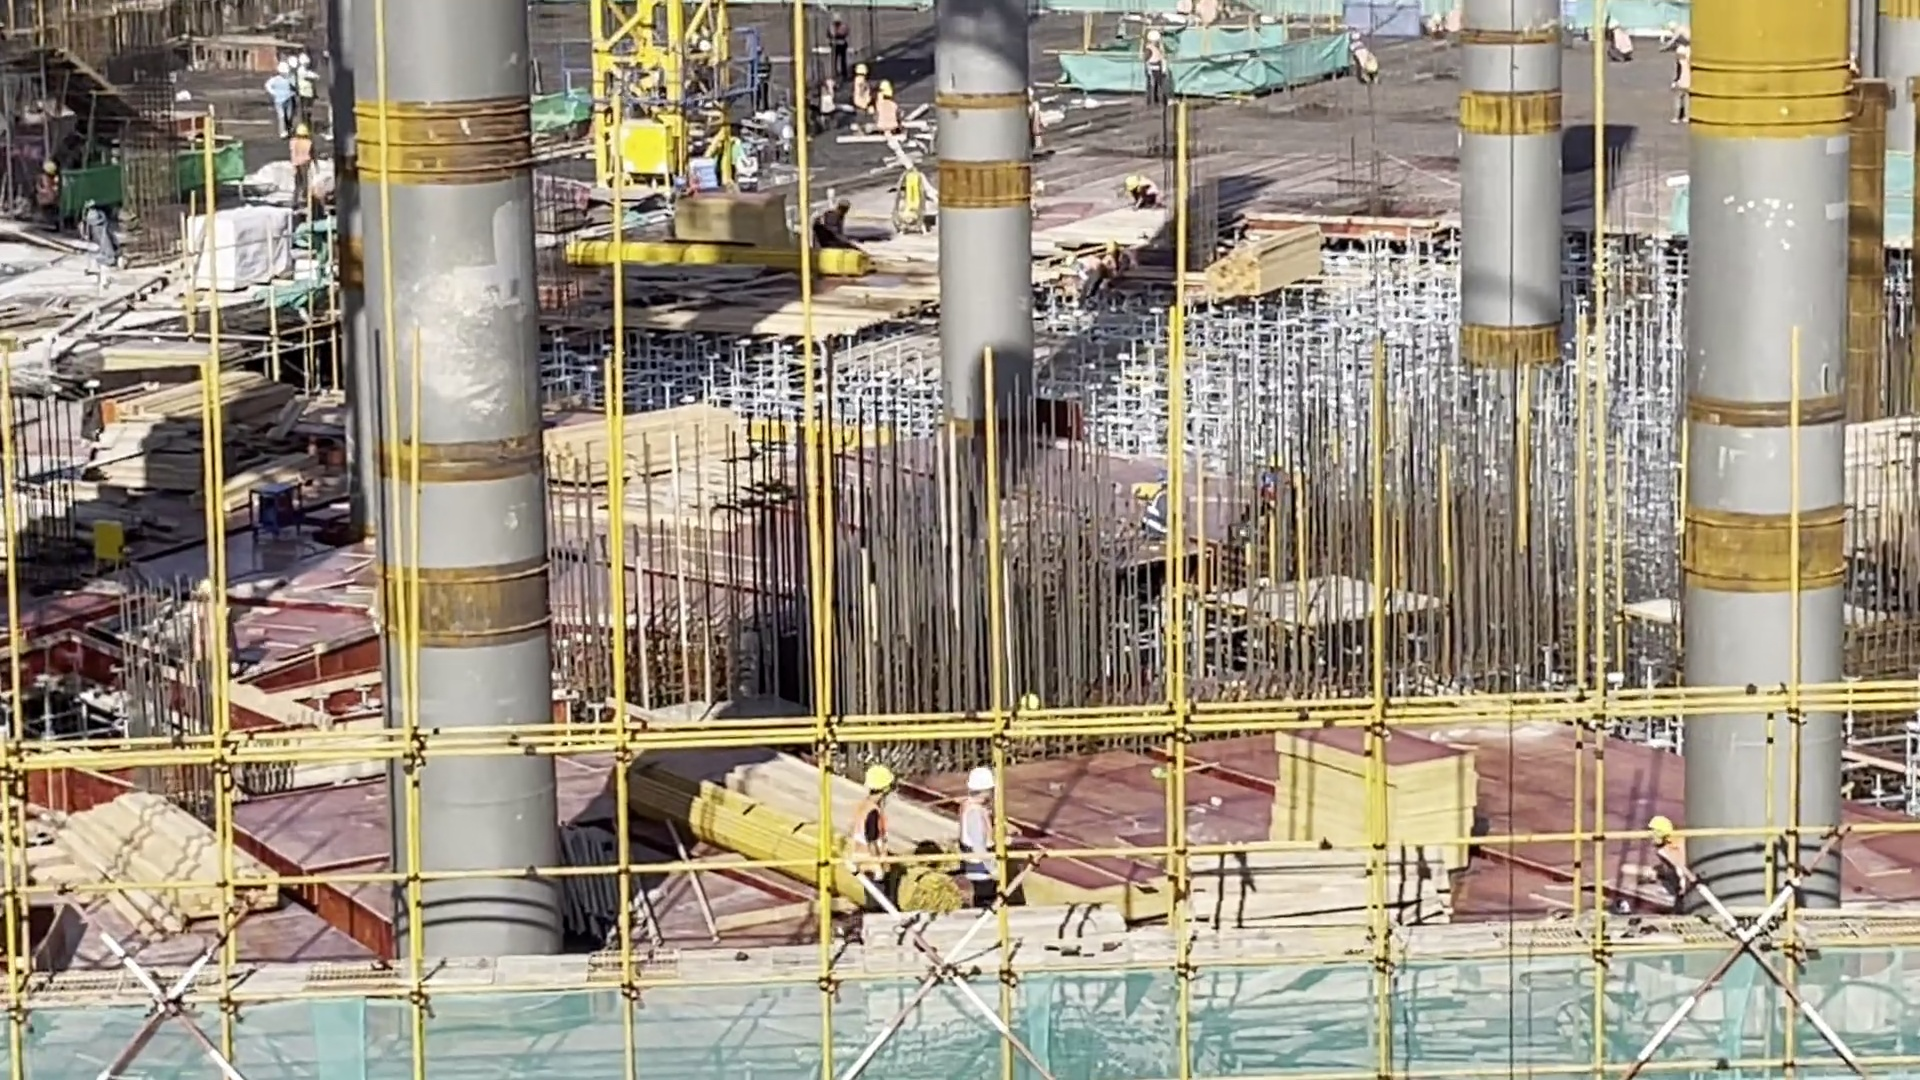board: (1256, 729, 1483, 856), (105, 393, 293, 484)
helmet: (967, 769, 1000, 789), (867, 765, 897, 785)
person: (844, 769, 912, 922), (950, 758, 1011, 901)
vest: (851, 804, 897, 878), (958, 803, 997, 871)
wood: (66, 791, 286, 933), (1169, 846, 1471, 931), (670, 746, 815, 895), (546, 401, 765, 473), (1193, 230, 1336, 304)
